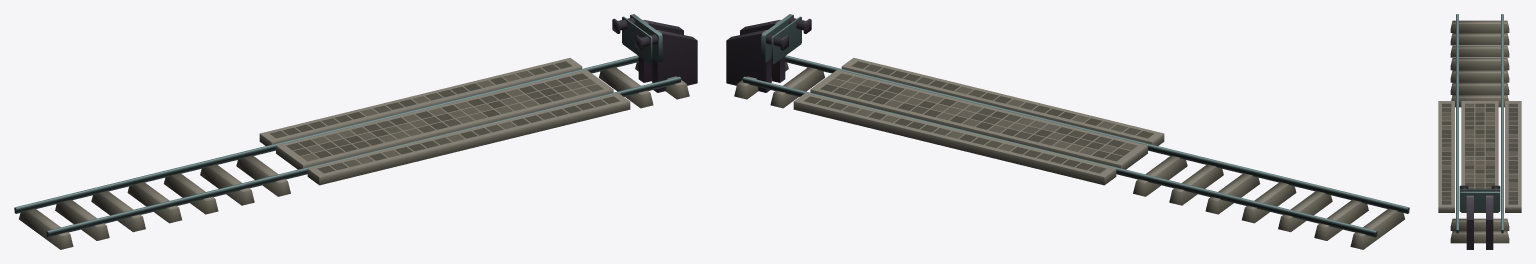
Rendered from Railroad_Crossing_2B.fbx.
3 renders of one model, left to right at view 1: azimuth 30°, elevation 25°; view 2: azimuth 150°, elevation 25°; view 3: azimuth 270°, elevation 25°, orthographic. The views are drawn at different scales.
Parts seen in each view (by area): view 1: Railroad_Crossing_2B; view 2: Railroad_Crossing_2B; view 3: Railroad_Crossing_2B.
Boxes of the visible parts, x1,y1,x2,y2 form: Railroad_Crossing_2B: (14, 14, 697, 249); Railroad_Crossing_2B: (726, 14, 1409, 249); Railroad_Crossing_2B: (1438, 14, 1521, 249).
Size of the model in its own units: 25.37 by 2.29 by 4.
